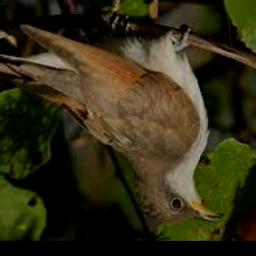Cuckoo: (0, 25, 224, 222)
